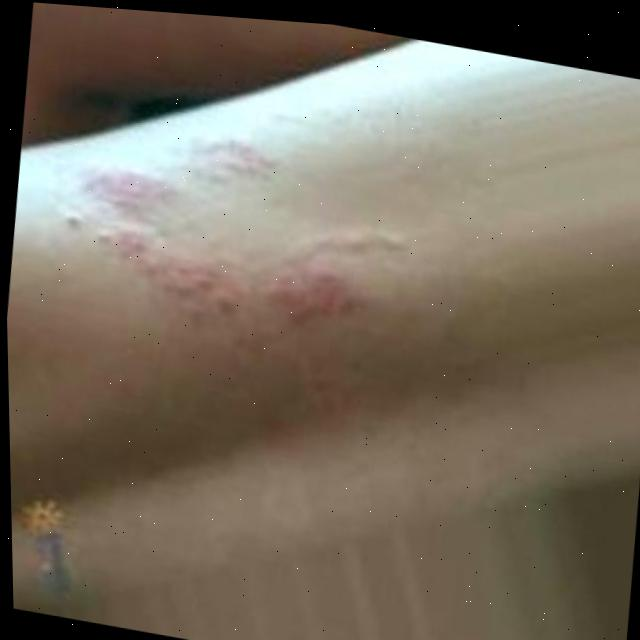Shingles: (68, 98, 405, 417)
